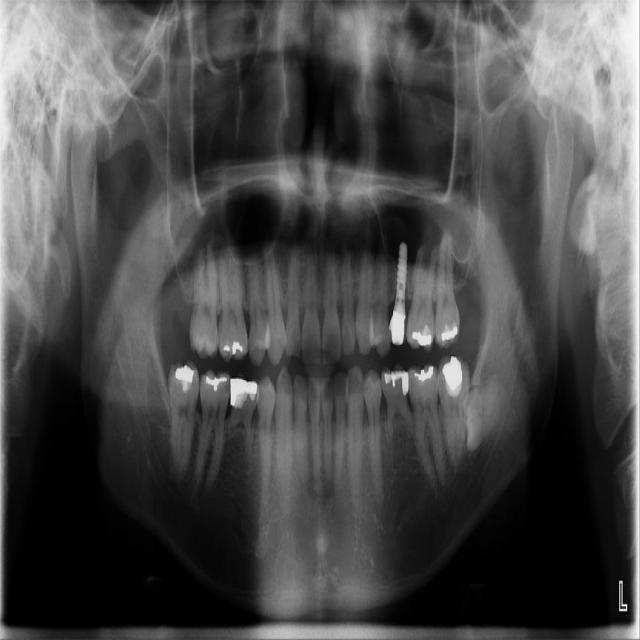Crown: (388, 311, 407, 347)
Filling: (230, 379, 257, 408), (443, 356, 462, 397), (384, 370, 410, 396), (175, 365, 194, 392), (206, 374, 227, 392), (414, 366, 434, 383), (413, 332, 432, 346), (442, 326, 458, 341), (232, 341, 243, 355), (224, 345, 230, 352)
Implant: (395, 243, 406, 314)
impacted tooth: (466, 381, 511, 450)
